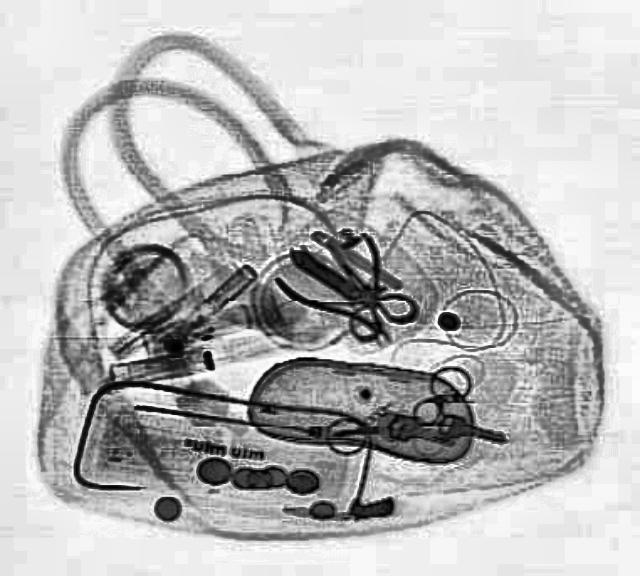Scissors: (298, 218, 424, 342)
